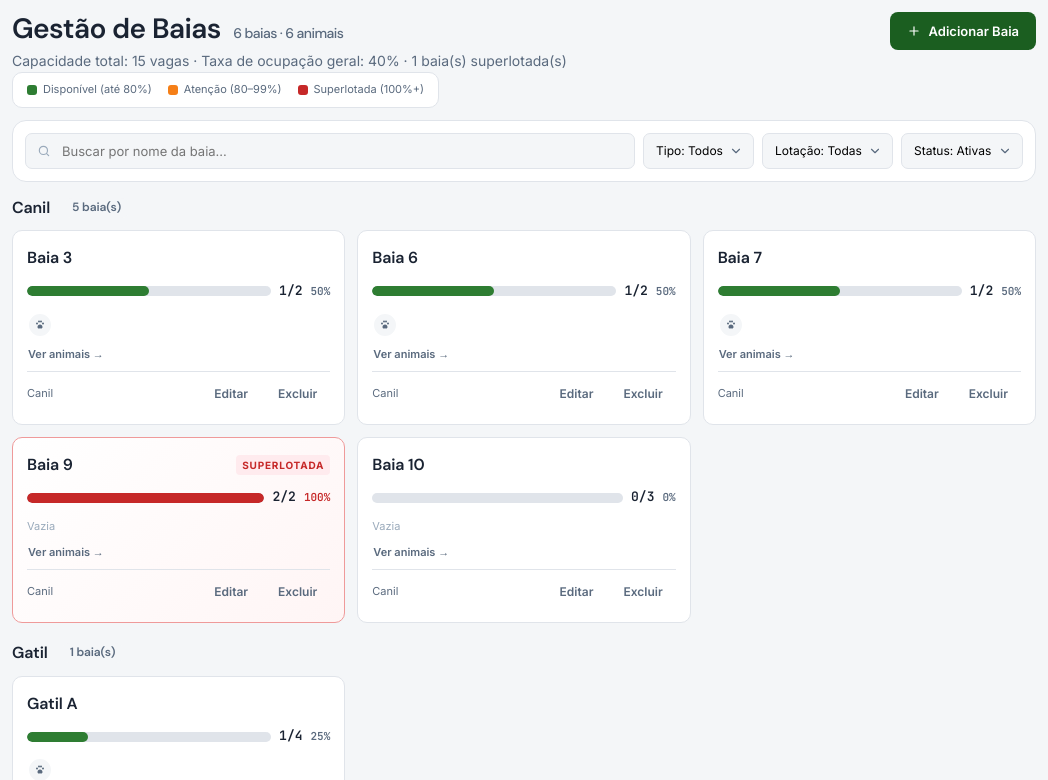
Test: GestaoBaias › filtra por status: baia inativa some do padrão e aparece ao trocar para "Inativas"
Expected: the text "Baia 3" is shown, top-left (27, 245), bottom-right (72, 271)
Expected: the text "Baia Interditada" is not shown
Select "Inativas" in the dropdown named "filtrar por status" at (962, 151), box top-left (901, 133), bottom-right (1023, 169)
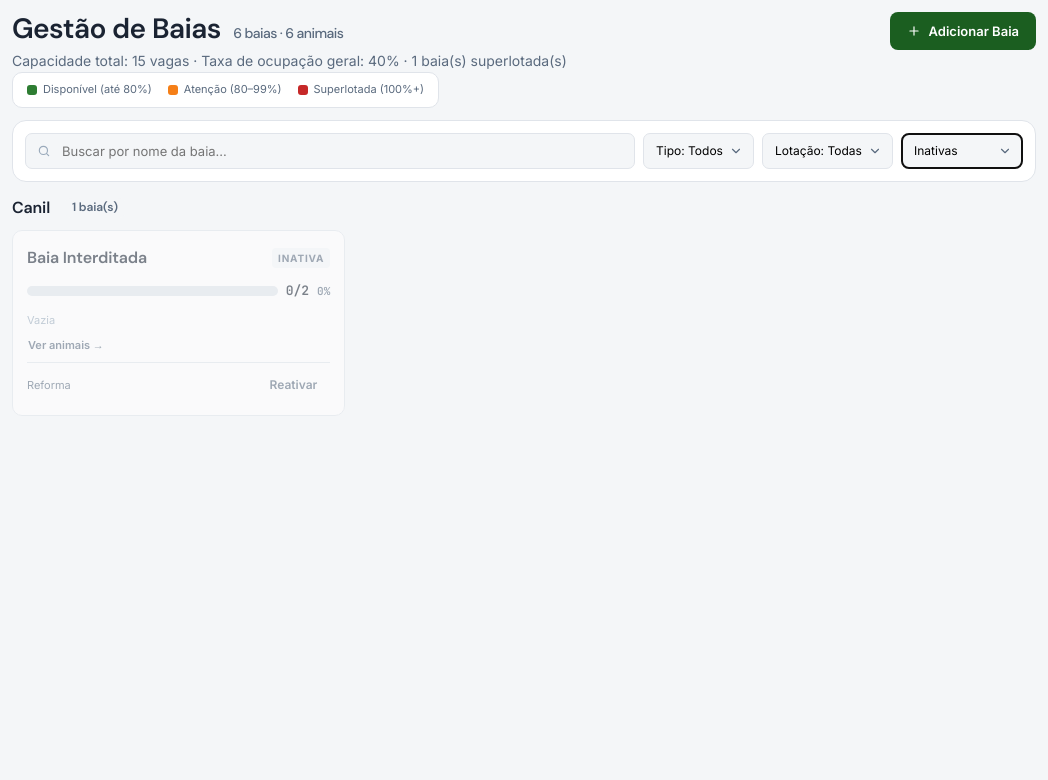
Expected: the text "Baia Interditada" is shown, top-left (27, 245), bottom-right (147, 271)
Expected: the text "Baia 3" is gone
